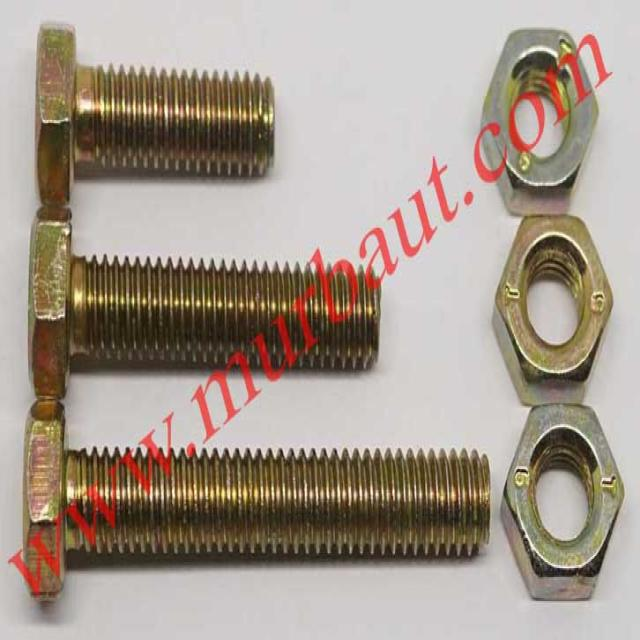Logam: (16, 394, 500, 598), (28, 202, 385, 404), (23, 13, 287, 210), (501, 395, 629, 610), (488, 206, 617, 406), (485, 13, 616, 193)
